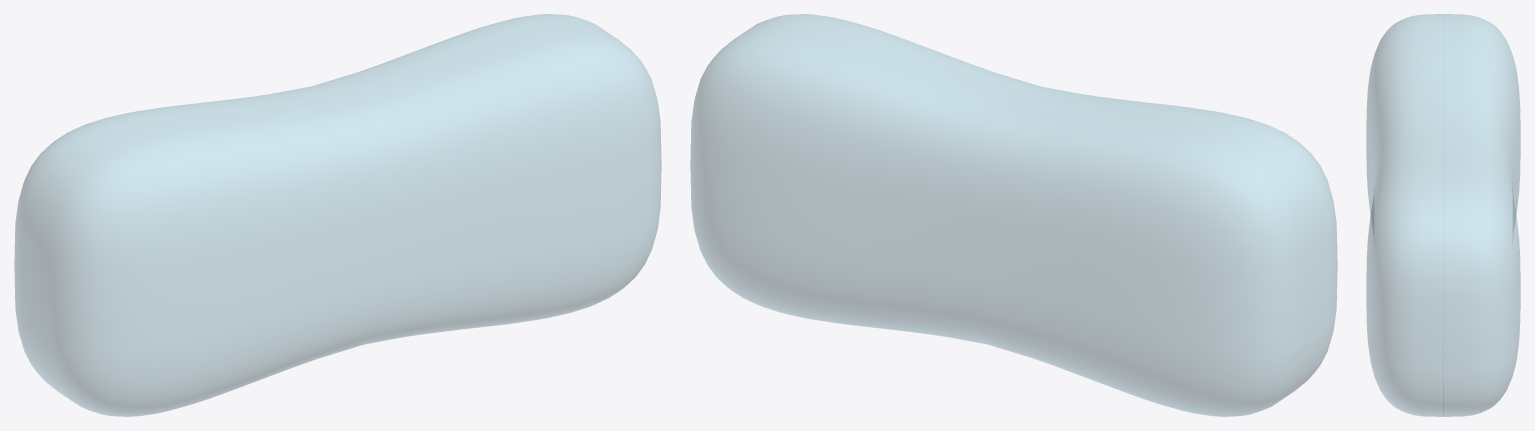
The picture shows the model from 3 angles, left to right: view 1: azimuth 30°, elevation 25°; view 2: azimuth 150°, elevation 25°; view 3: azimuth 270°, elevation 25°; orthographic projection. The views are drawn at different scales.
Parts seen in each view (by area): view 1: gel-body; view 2: gel-body; view 3: gel-body.
Part boxes in pixels (left/top/right/bottom): gel-body: left=14, top=14, right=661, bottom=416; gel-body: left=690, top=14, right=1337, bottom=416; gel-body: left=1366, top=14, right=1520, bottom=416.
Bounding box in the file's own units: 2.28 × 0.9647 × 0.6243.
